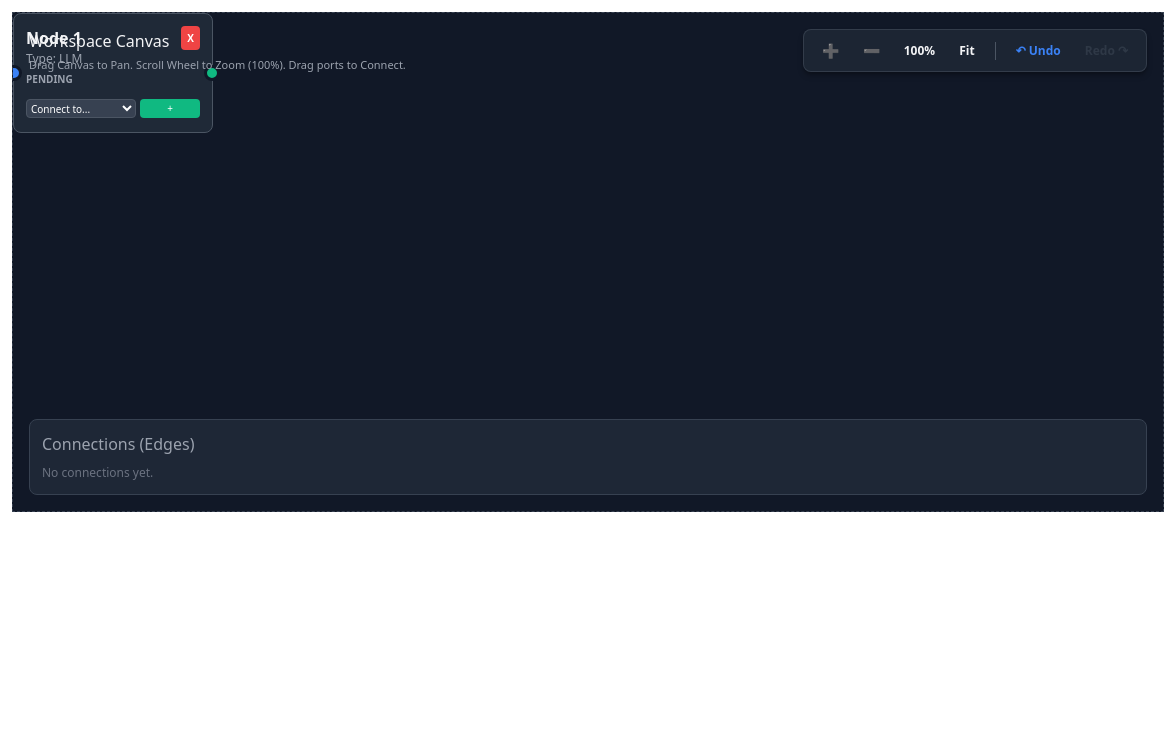
Test case: Canvas Component › handles zoom operations
Check: the text "Zoom (100%)" is shown, box [29,57,406,74]
Click the button with test id "zoom-in-btn".
click(830, 50)  # box [814,36,847,65]
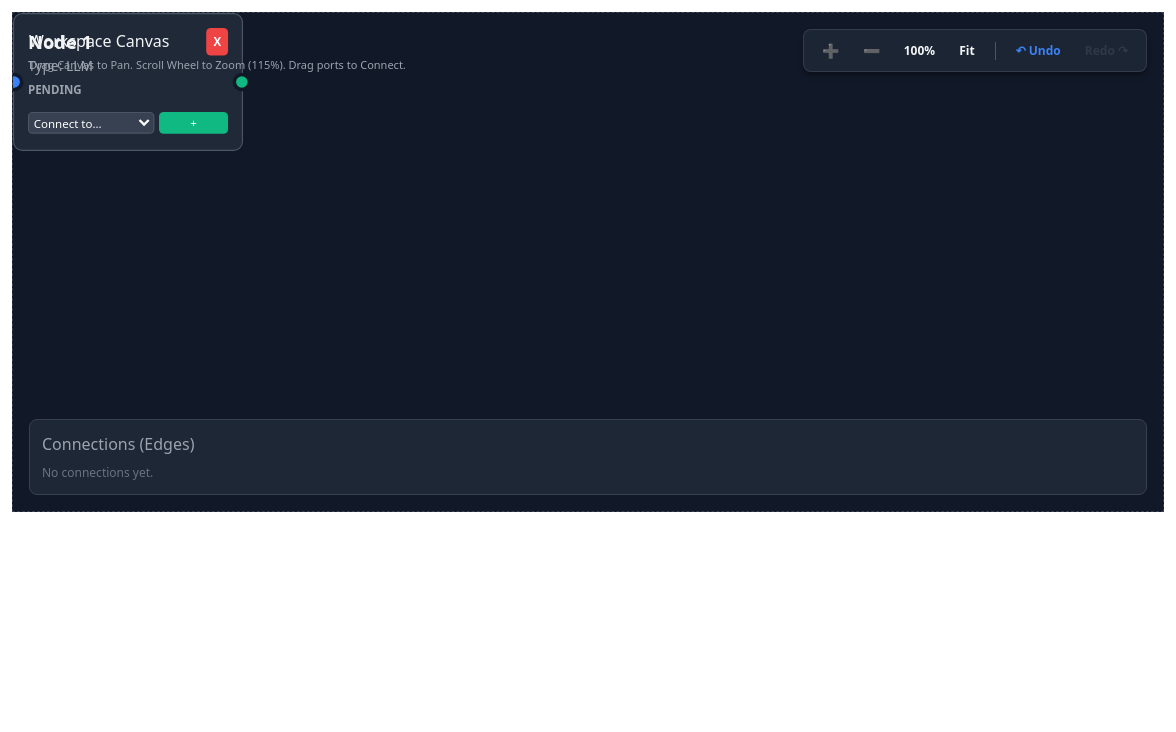
Check: the text "Zoom (115%)" is shown, box [29,57,406,74]
